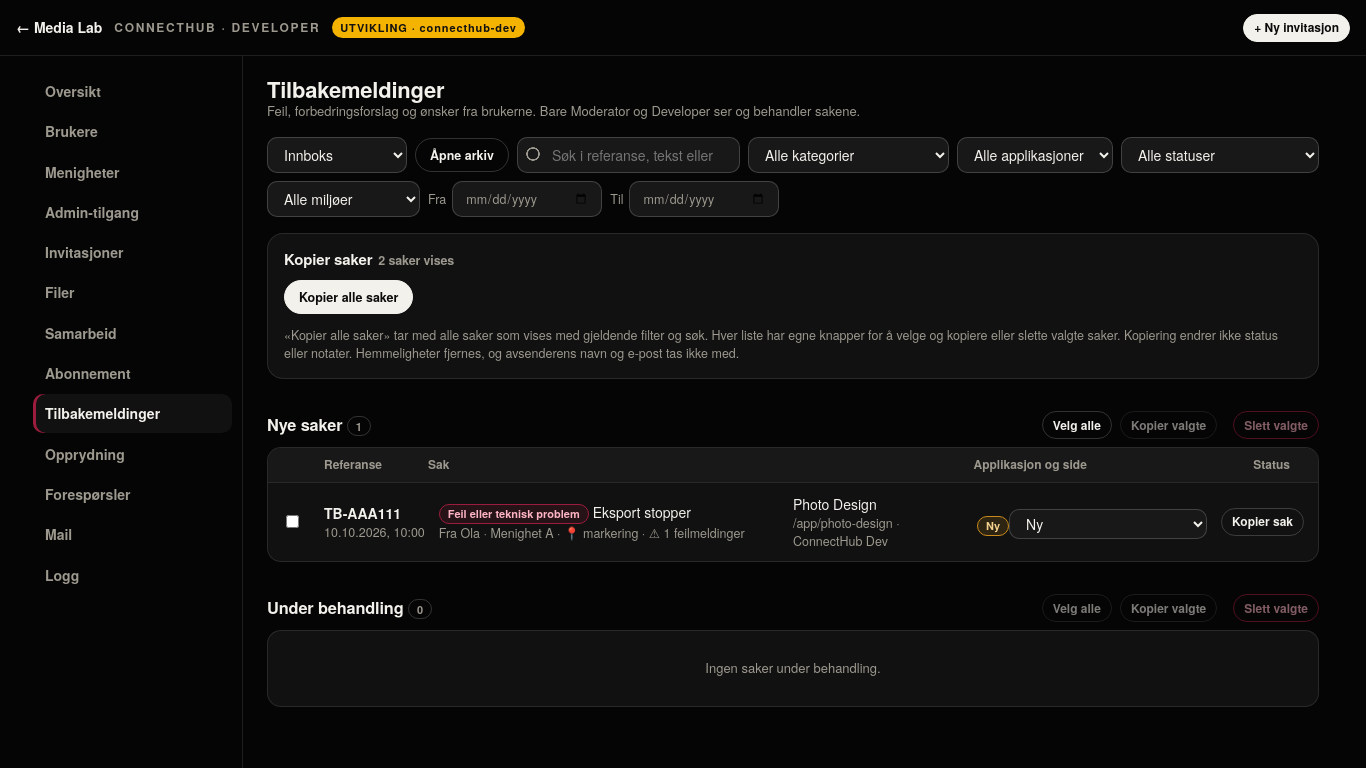
Tilbakemeldinger (ADM-12) › filtre på kategori og miljø; søk i referanse og tekst
Expected: the text "TB-AAA111" is shown, [324,503,401,523]
Expected: the text "2 saker vises" is shown, [378,251,454,269]
Select "Ønske om ny funksjon" in the dropdown named "Kategori" at (848, 155), box [748,137,949,173]
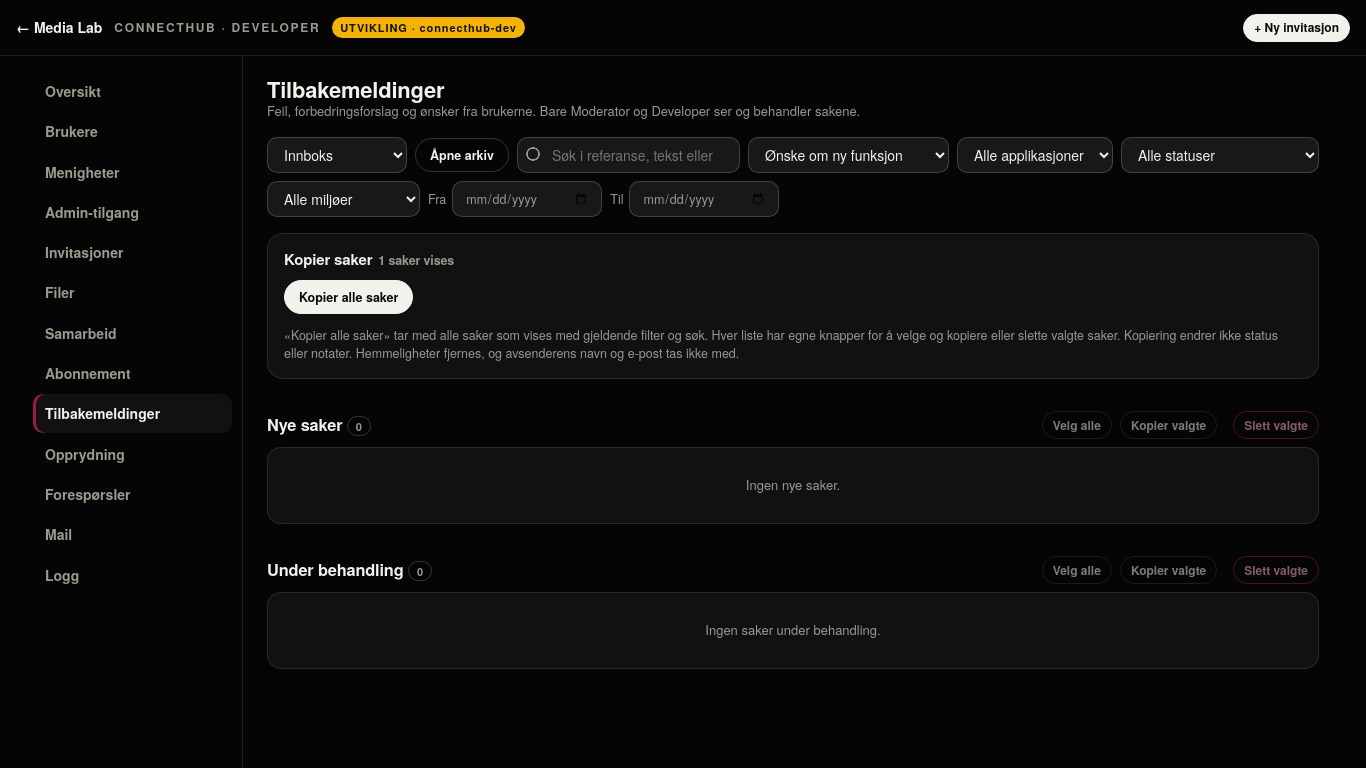
Expected: the text "TB-AAA111" is gone
Select "Alle kategorier" in the dropdown named "Kategori" at (848, 155), box [748,137,949,173]
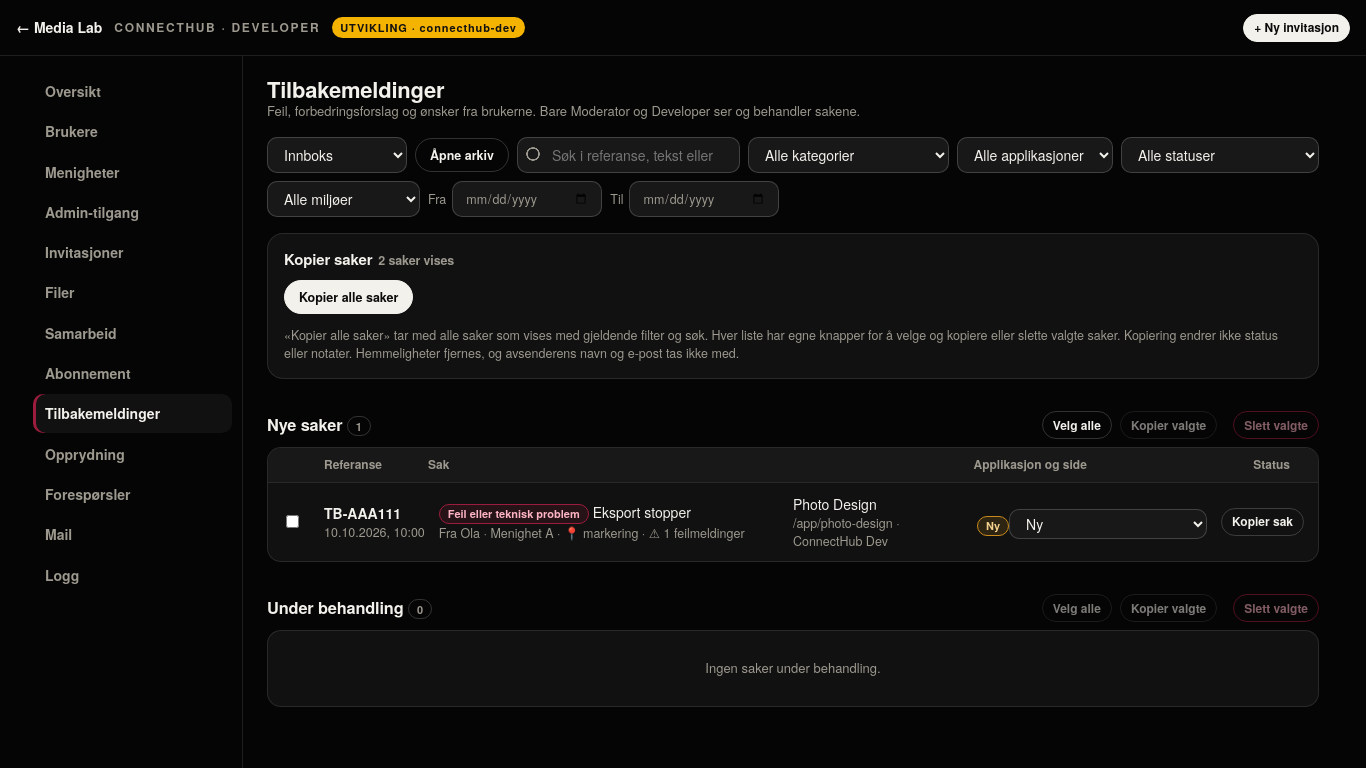
Select "ConnectHub Dev" in the dropdown named "Miljø" at (344, 199), box [267,181,420,217]
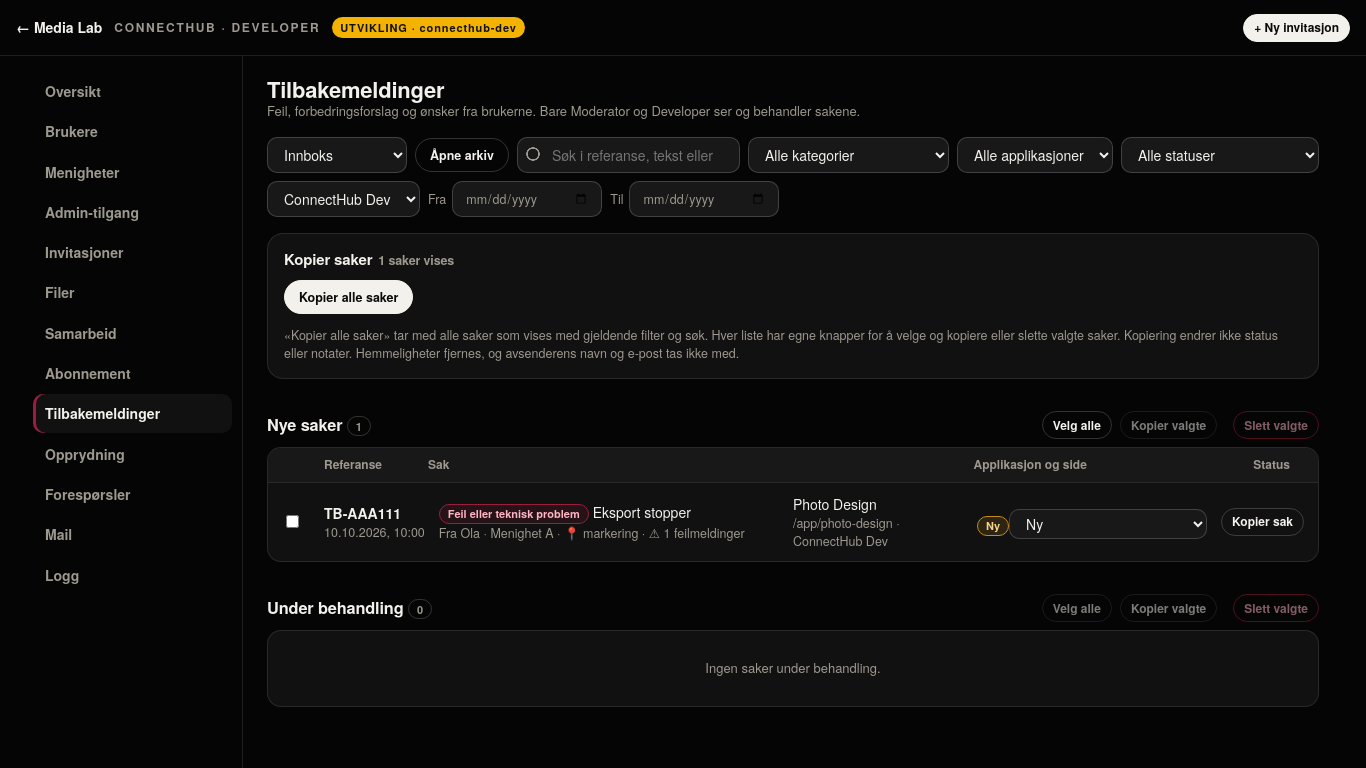
Select "Alle miljøer" in the dropdown named "Miljø" at (344, 199), box [267,181,420,217]
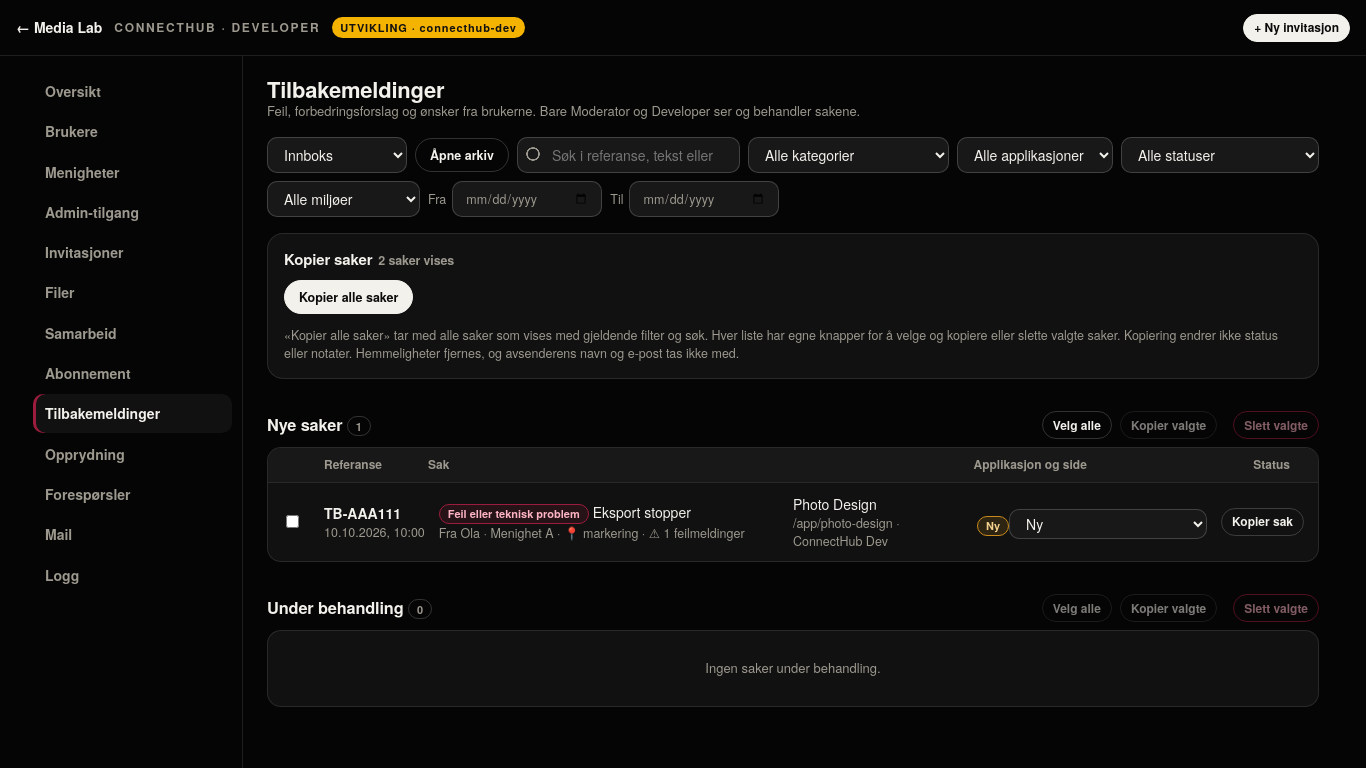
Type "mørk" into the search field at (628, 155), box [517,137,740,173]
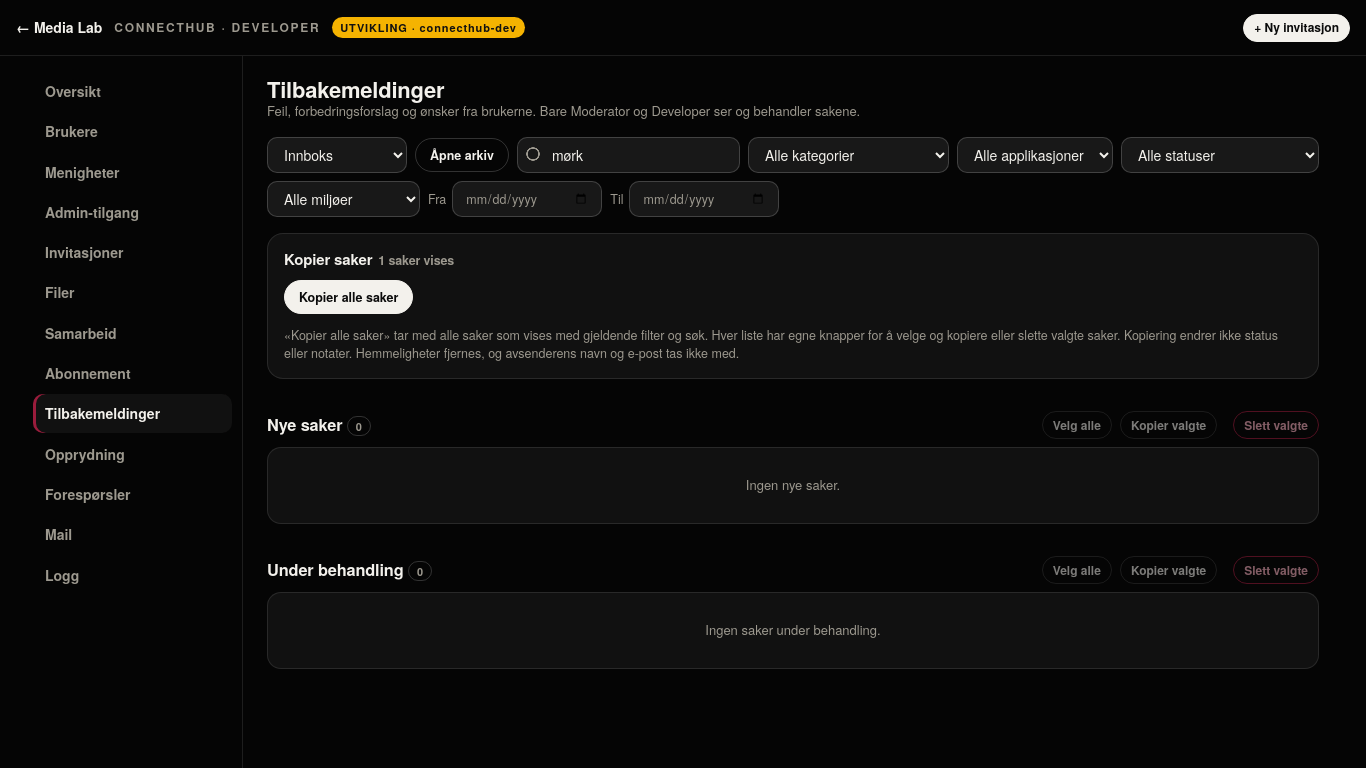
Expected: the text "1 saker vises" is shown, [378,251,454,269]
